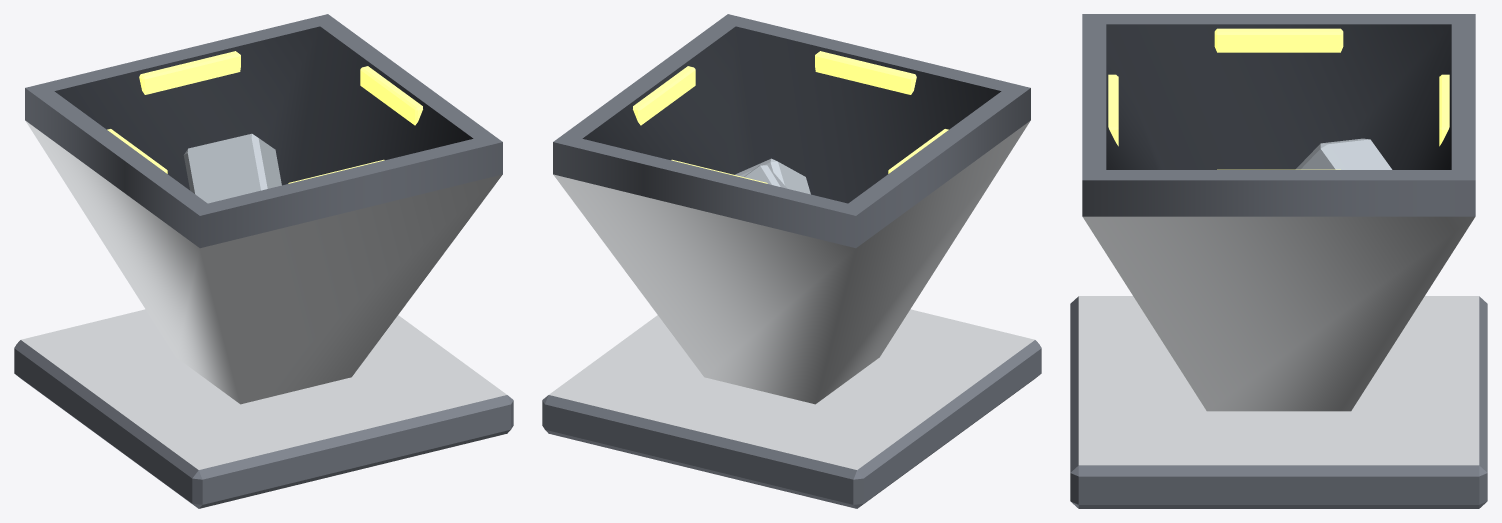
File: R4X_SalvageOptimizer_LOD1.fbx
The picture shows the model from 3 angles, left to right: view 1: azimuth 30°, elevation 25°; view 2: azimuth 150°, elevation 25°; view 3: azimuth 270°, elevation 25°; orthographic projection. The views are drawn at different scales.
Visible parts, largest first — view 1: R4X_SalvageOptimizer_LOD1; view 2: R4X_SalvageOptimizer_LOD1; view 3: R4X_SalvageOptimizer_LOD1.
Boxes of the visible parts, left/top/right/bottom form: R4X_SalvageOptimizer_LOD1: left=14, top=14, right=513, bottom=508; R4X_SalvageOptimizer_LOD1: left=542, top=14, right=1041, bottom=508; R4X_SalvageOptimizer_LOD1: left=1070, top=14, right=1487, bottom=508.
Size of the model in its own units: 0.52 by 0.45 by 0.52.
